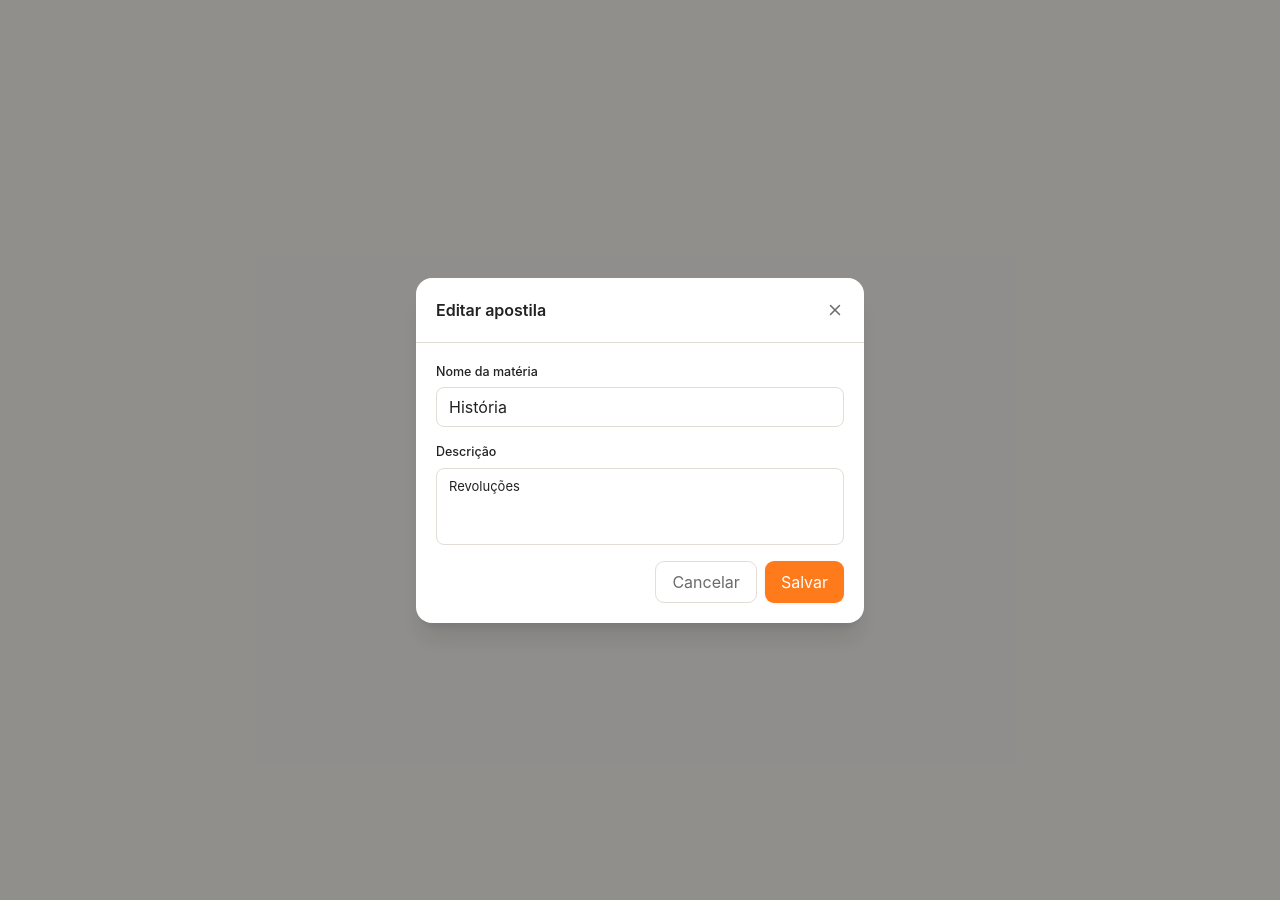
it: EditarMateriaDialog › mostra o erro e não fecha quando a API falha
Click the button "Salvar" at (804, 582), box [765, 560, 844, 602]
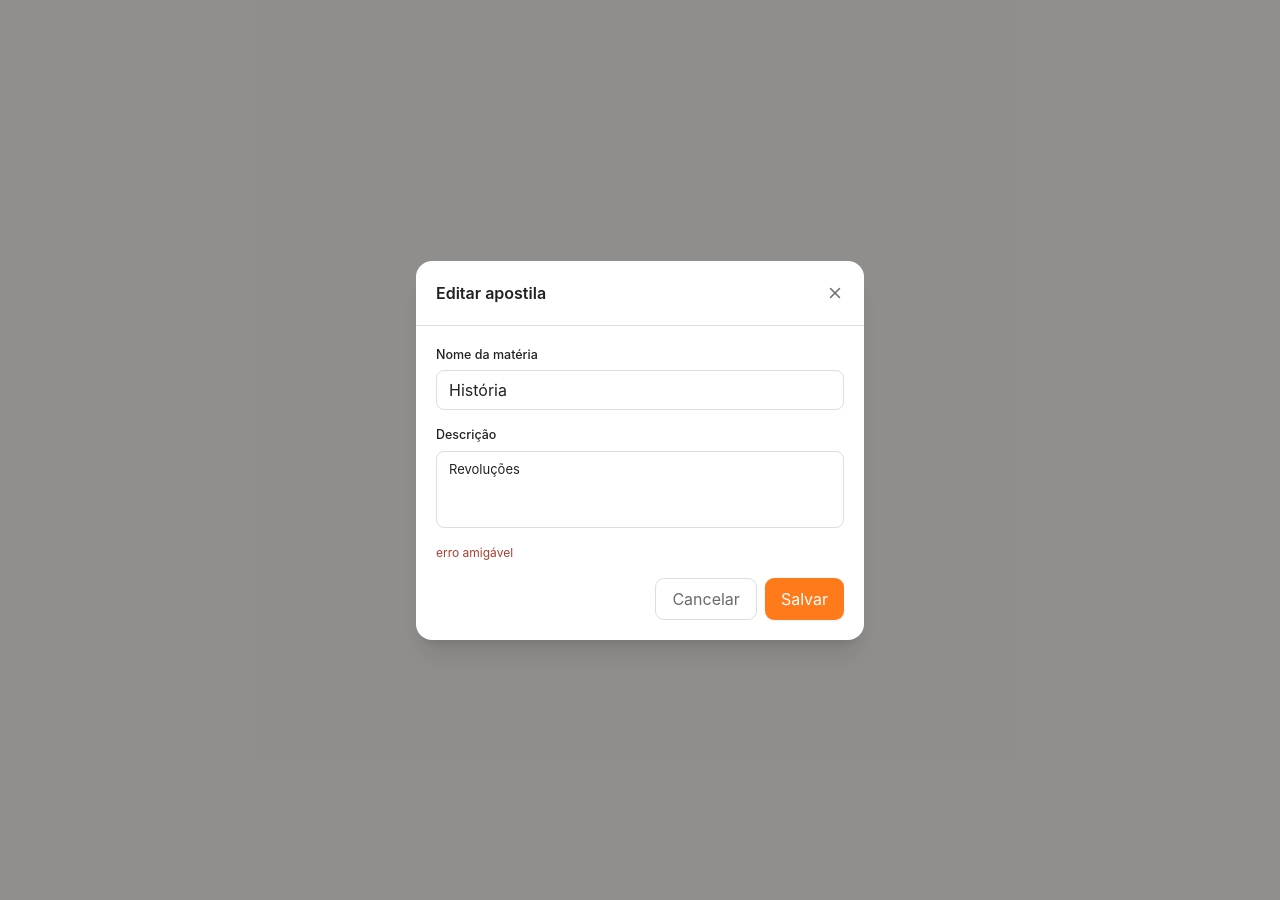
expect the text "erro amigável" is shown: met, box [436, 544, 513, 560]
